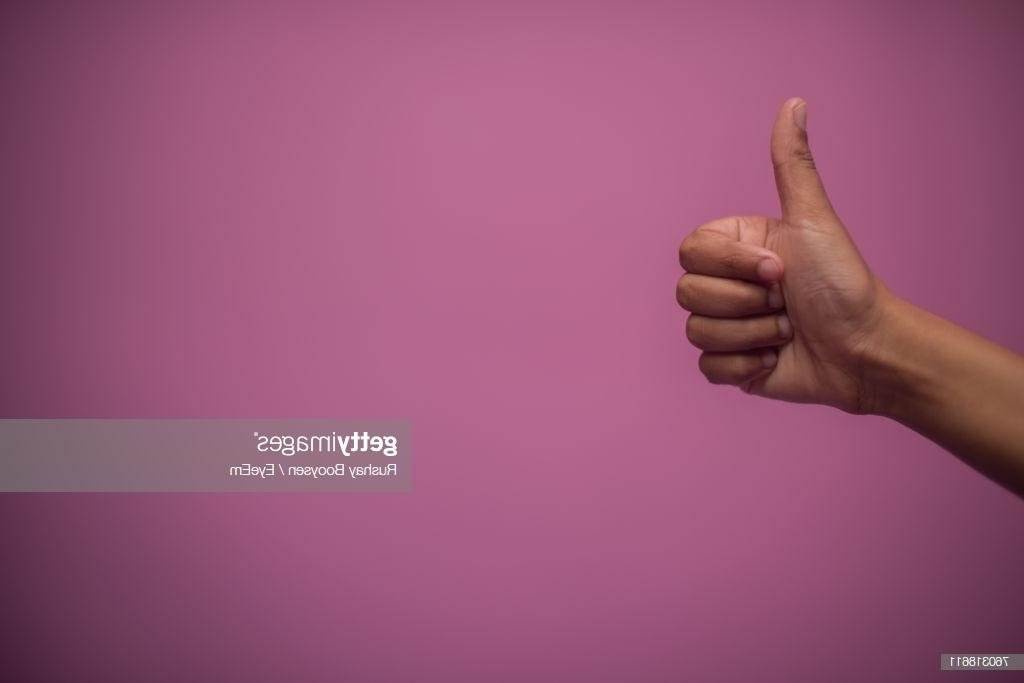thumbsup: (676, 95, 824, 405)
